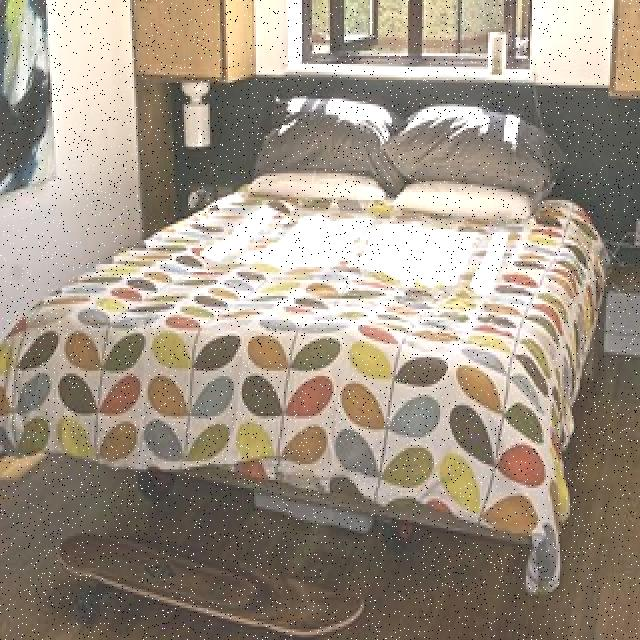bed: (5, 88, 602, 527)
